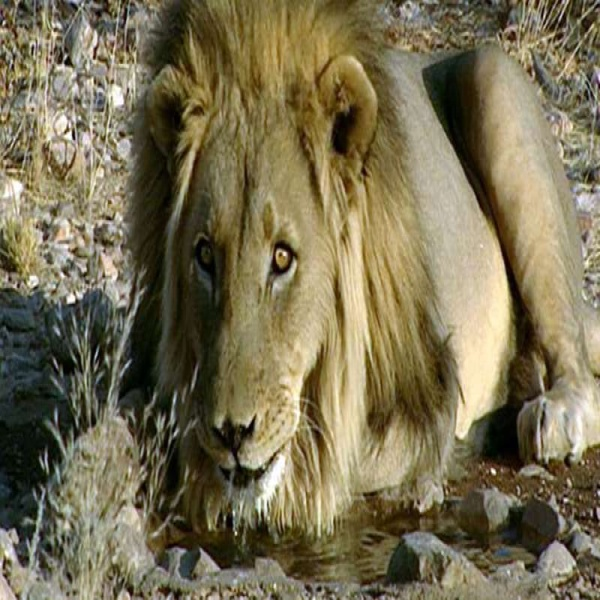Lion: (138, 3, 600, 542)
